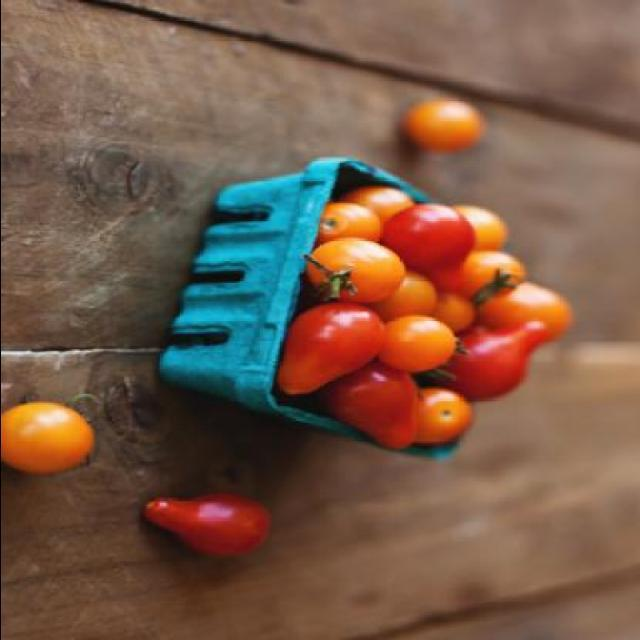Tomato: (278, 187, 574, 450), (137, 492, 271, 556), (292, 298, 394, 376), (2, 403, 86, 477), (402, 100, 492, 152)
